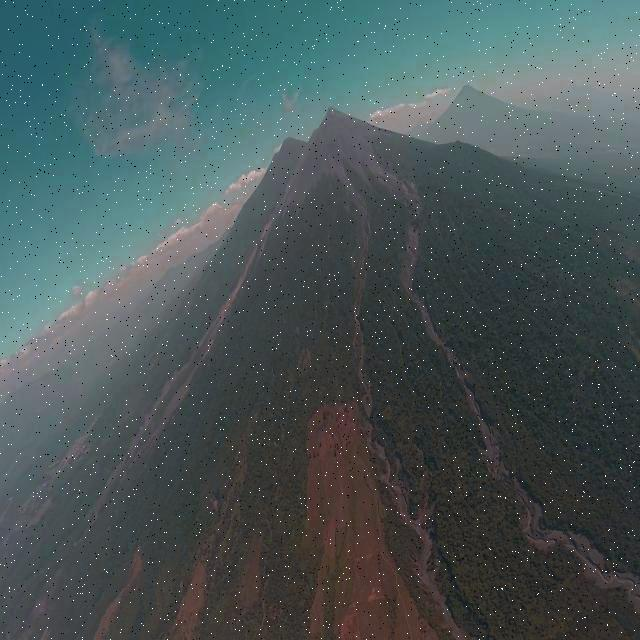Summit: (318, 104, 349, 125)
